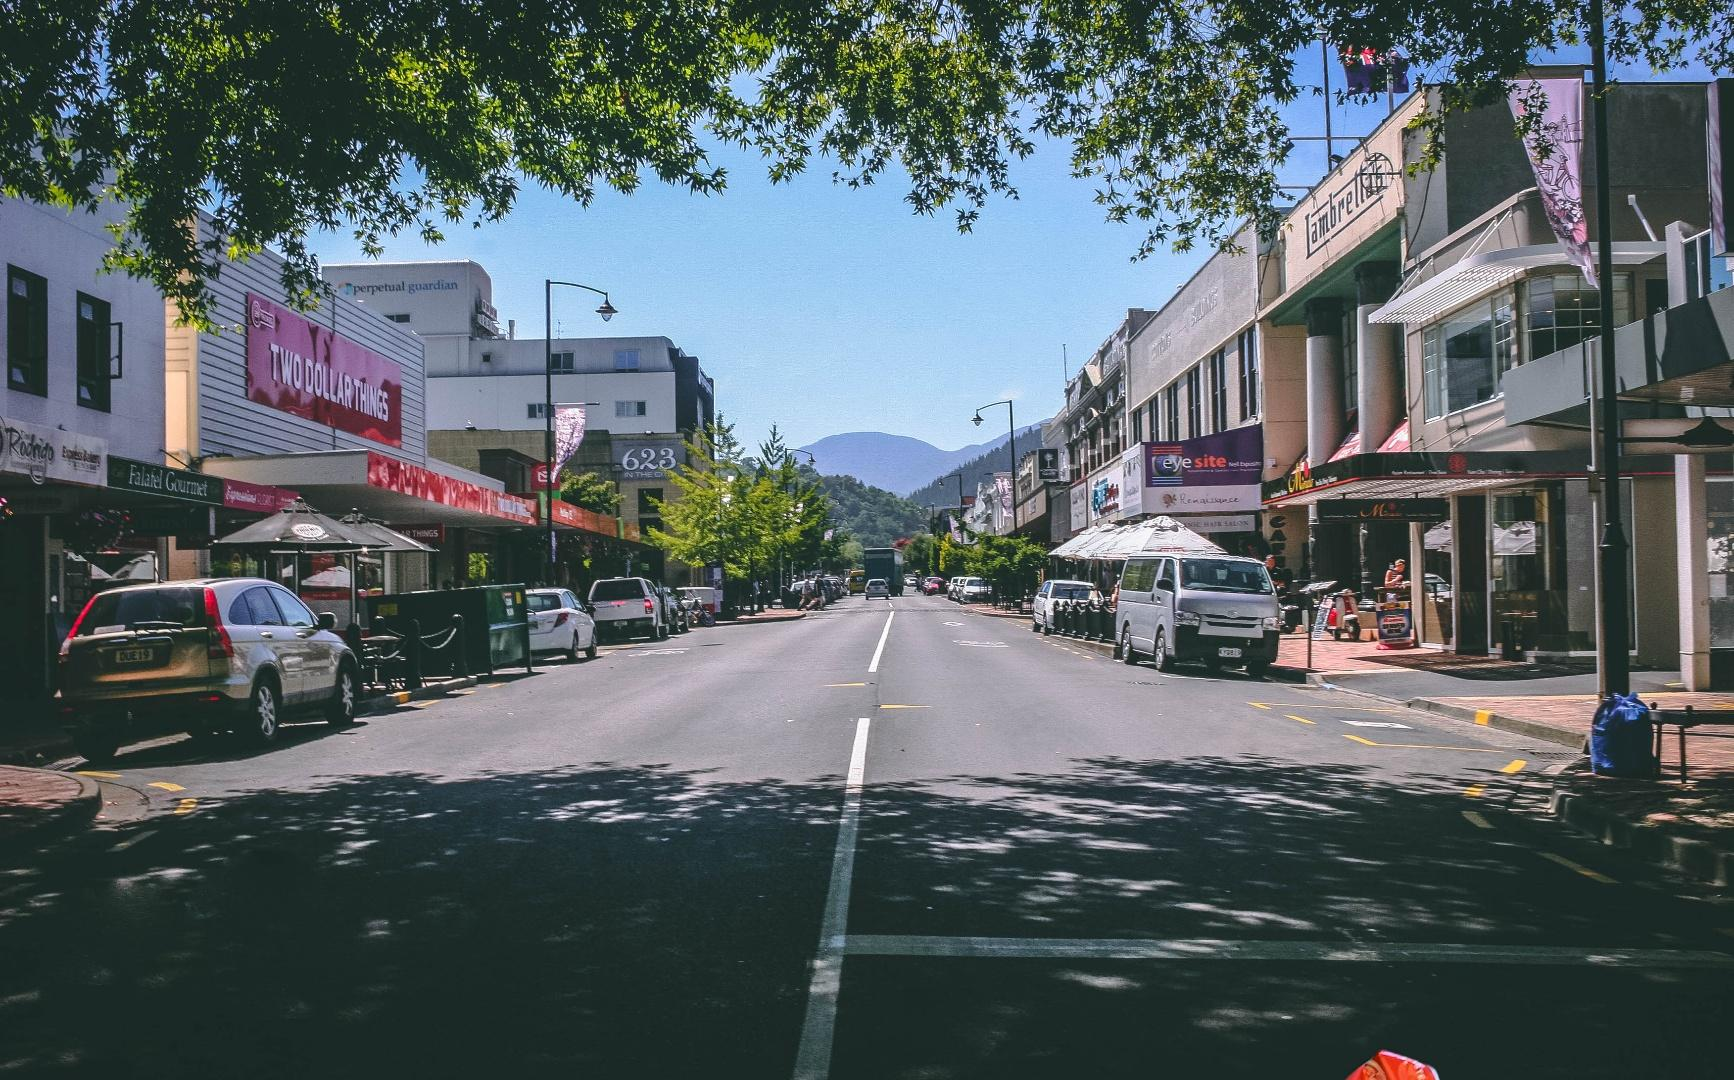metal-cans: (1325, 1043, 1734, 1080)
